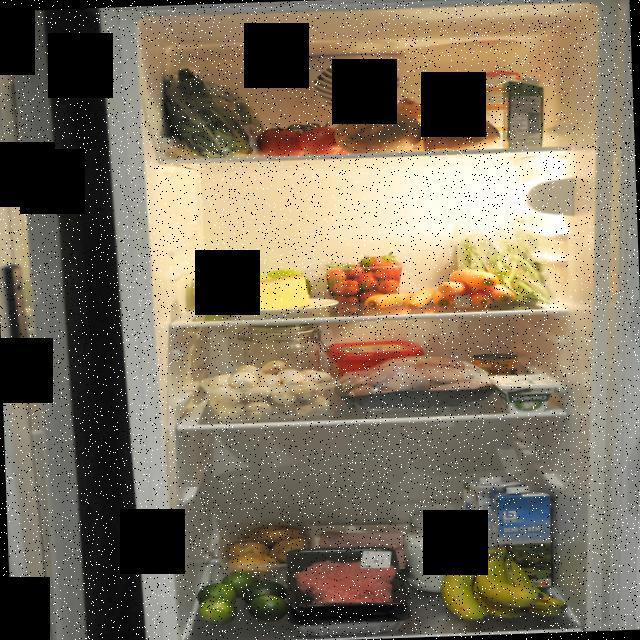apple: (204, 264, 314, 306)
banana: (442, 540, 569, 622)
beans: (453, 210, 556, 308)
beef: (292, 544, 399, 636)
butter: (325, 339, 425, 383)
carrot: (437, 266, 517, 312), (359, 286, 441, 312)
cheese: (223, 272, 313, 314), (492, 371, 566, 413)
chicken: (338, 352, 498, 416)
corn: (470, 352, 520, 378)
cream: (502, 75, 547, 148)
flour: (233, 325, 324, 369)
ham: (316, 524, 408, 566)
lime: (192, 569, 290, 630)
milk: (487, 482, 559, 594), (458, 474, 522, 572)
mushroom: (197, 358, 345, 422)
onion: (384, 96, 458, 128)
potato: (220, 517, 308, 575)
spinach: (152, 45, 268, 164)
strawberry: (320, 253, 407, 302)
sugar: (401, 506, 474, 594), (458, 66, 520, 148)
sweet potato: (333, 102, 501, 154)
tomato: (254, 121, 350, 159)
